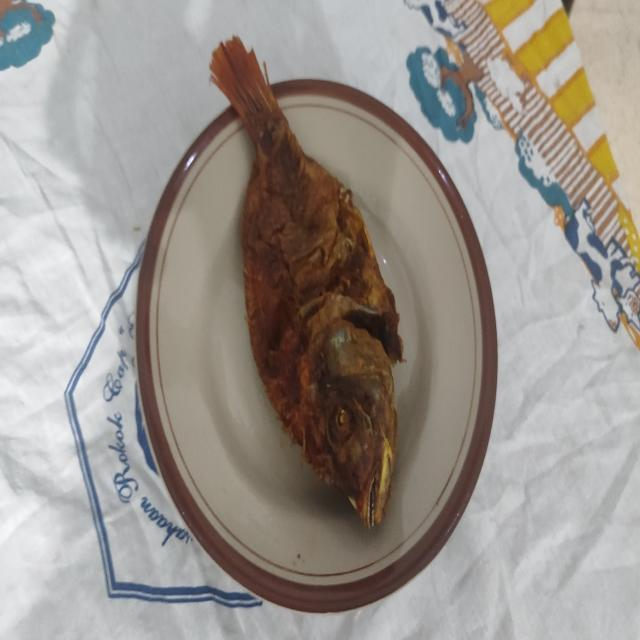ikan_mujair: (210, 37, 403, 527)
